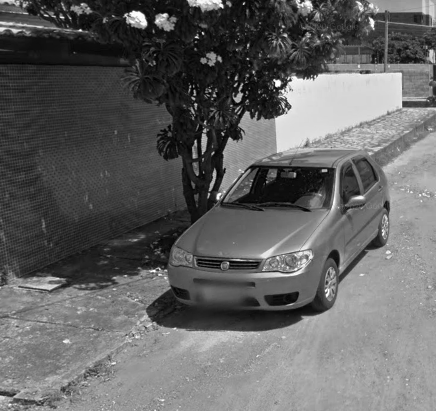car: (166, 143, 393, 318)
